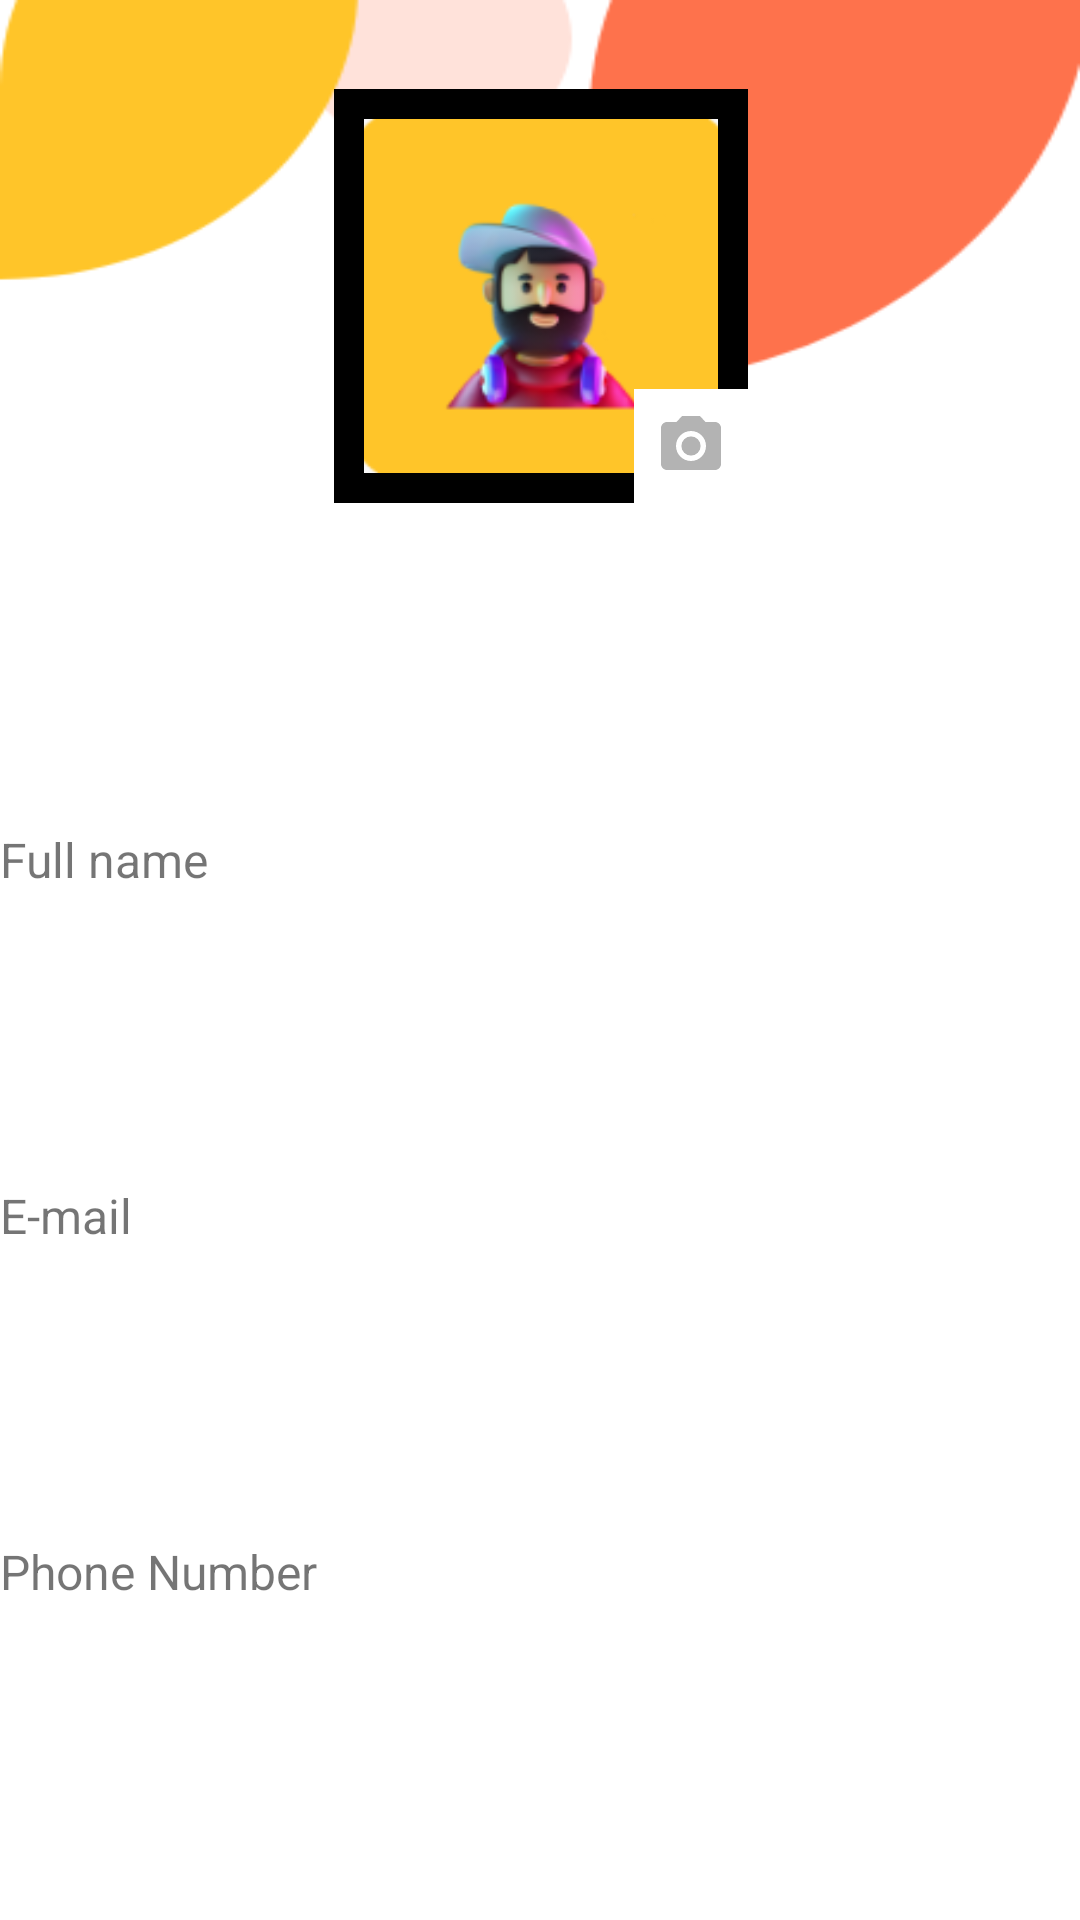

Named icons in this screenshot (1080×1920) and their centers, point (x, y):
camera: point (691, 446)
